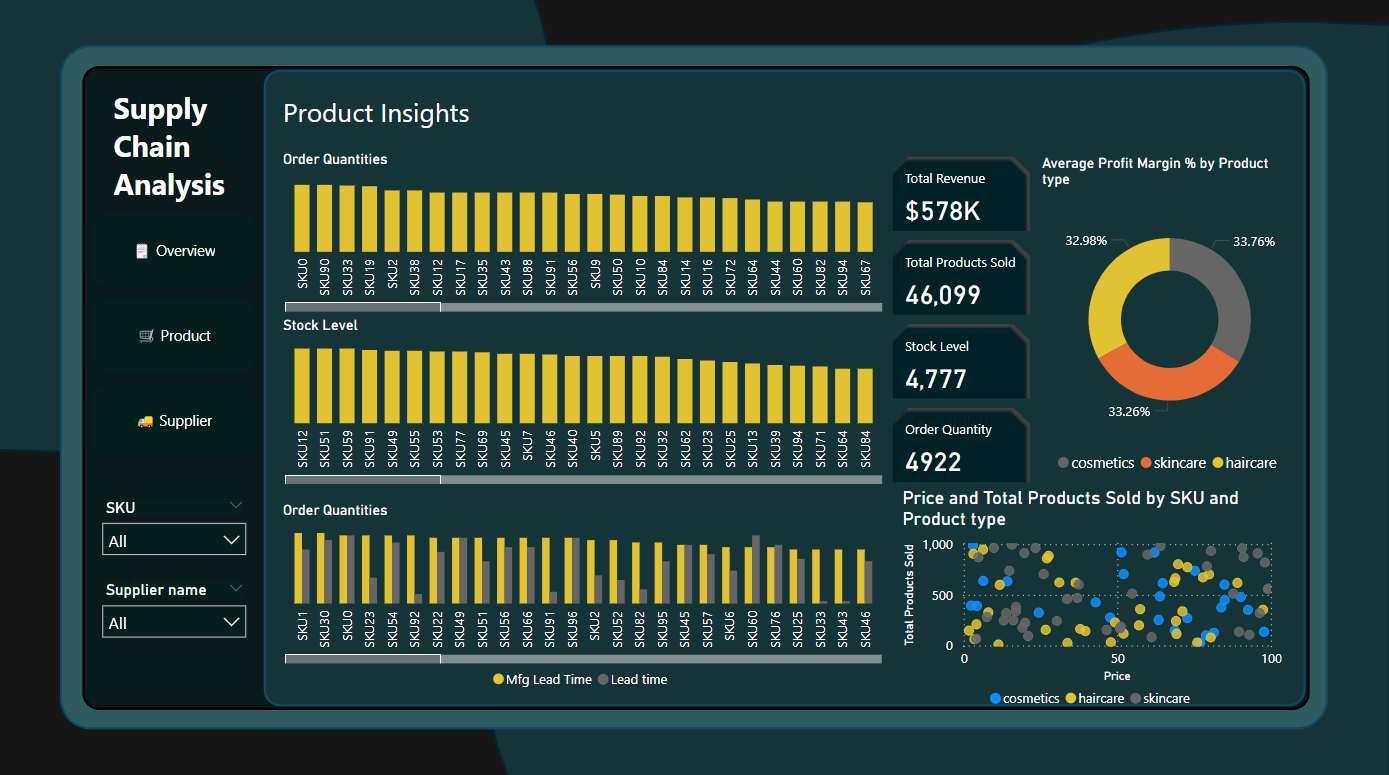

What the dashboard file says about the page in this screenshot:
{"tool":"powerbi","page":{"name":"🛒 Product","canvas":[1280,720],"ordinal":1},"visuals":[{"type":"columnChart","title":"Order Quantities","fields":{"Category":["supply_chain_data.SKU"],"Y":["_Measures.Order Quantity"]},"box":[257.1,141.4,560,152.9],"z":0},{"type":"clusteredColumnChart","title":"Order Quantities","fields":{"Category":["supply_chain_data.SKU"],"Y":["Sum(supply_chain_data.Mfg Lead Time)","Sum(supply_chain_data.Lead time)"]},"box":[257.1,464.3,560,181.4],"z":1000},{"type":"columnChart","title":"Stock Level","fields":{"Category":["supply_chain_data.SKU"],"Y":["_Measures.Stock Level"]},"box":[257.1,294.3,560,158.6],"z":2000},{"type":"cardVisual","fields":{"Data":["_Measures.Total Revenue","_Measures.Total Products Sold","_Measures.Stock Level","_Measures.Order Quantity"]},"box":[817.1,141.4,137.1,311.4],"z":3000},{"type":"donutChart","fields":{"Category":["supply_chain_data.Product type"],"Y":["_Measures.Average Profit Margin %"]},"box":[954.3,145.7,244.3,301.4],"z":4000},{"type":"scatterChart","fields":{"X":["Sum(supply_chain_data.Price)"],"Y":["_Measures.Total Products Sold"],"Category":["supply_chain_data.SKU"],"Series":["supply_chain_data.Product type"]},"box":[827.1,450,358.6,212.9],"z":5000},{"type":"textbox","box":[257.1,84.3,312.9,42.9],"z":6000},{"type":"pageNavigator","box":[86.7,200,151.7,225],"z":7000},{"type":"slicer","fields":{"Values":["supply_chain_data.SKU"]},"box":[86.7,456.7,151.7,63.3],"z":8000},{"type":"slicer","fields":{"Values":["supply_chain_data.Supplier name"]},"box":[86.7,531.7,151.7,63.3],"z":9000},{"type":"textbox","box":[101.7,78.3,136.7,140],"z":10000}]}

Visuals, with their boxes on the page's 1280x720 design canvas (x1, y1, x2, y2). These are canvas units, not pixel positions in the 1389x775 screenshot, which may show the page scaled, cropped or inside an application window:
"Order Quantities" columnChart: box=[257, 141, 817, 294]
"Order Quantities" clusteredColumnChart: box=[257, 464, 817, 646]
"Stock Level" columnChart: box=[257, 294, 817, 453]
cardVisual - _Measures.Total Revenue x _Measures.Total Products Sold: box=[817, 141, 954, 453]
donutChart - supply_chain_data.Product type x _Measures.Average Profit Margin %: box=[954, 146, 1199, 447]
scatterChart - Sum(supply_chain_data.Price) x _Measures.Total Products Sold: box=[827, 450, 1186, 663]
textbox: box=[257, 84, 570, 127]
pageNavigator: box=[87, 200, 238, 425]
slicer - supply_chain_data.SKU: box=[87, 457, 238, 520]
slicer - supply_chain_data.Supplier name: box=[87, 532, 238, 595]
textbox: box=[102, 78, 238, 218]
